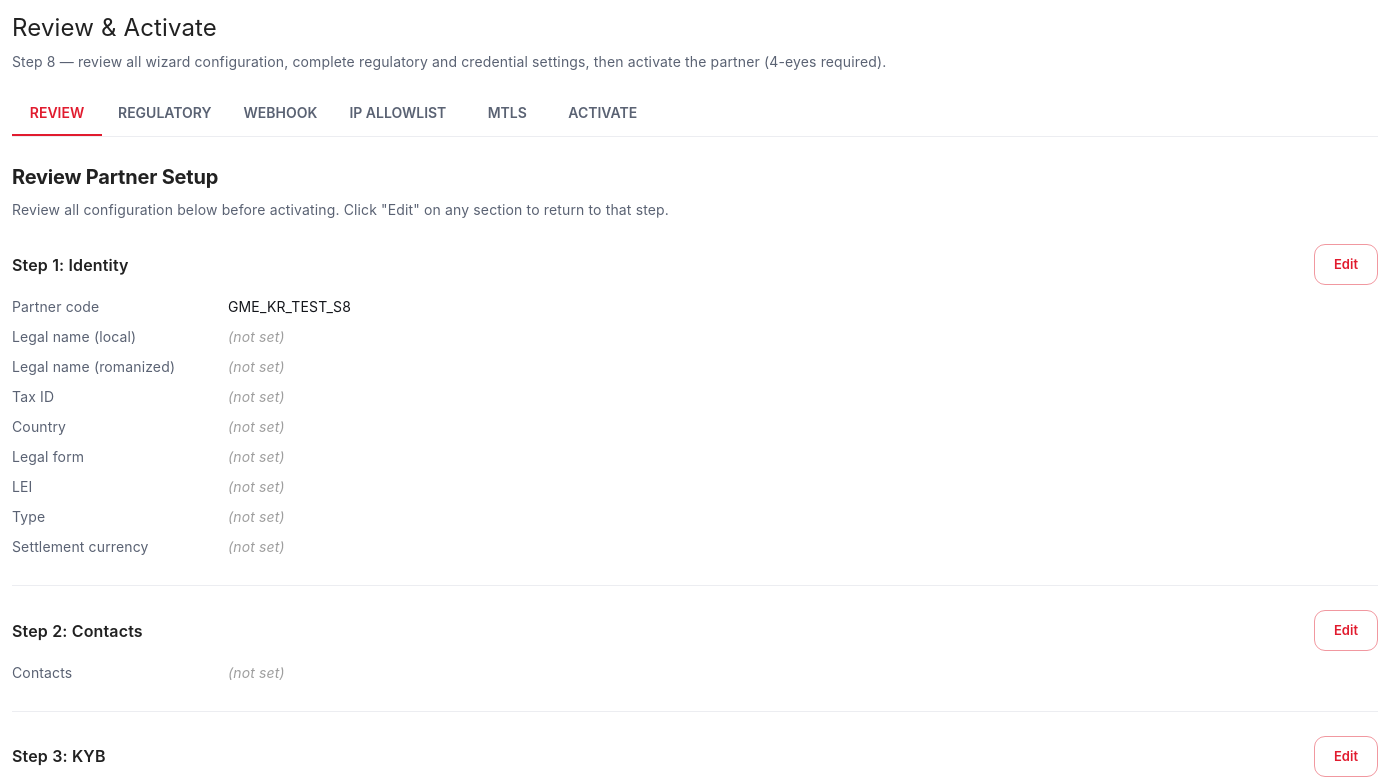
Test case: Step8Form › switches to IP allowlist tab
Click the tab with aria-label "tab-ip-allowlist": (398, 112) [333,88,462,136]
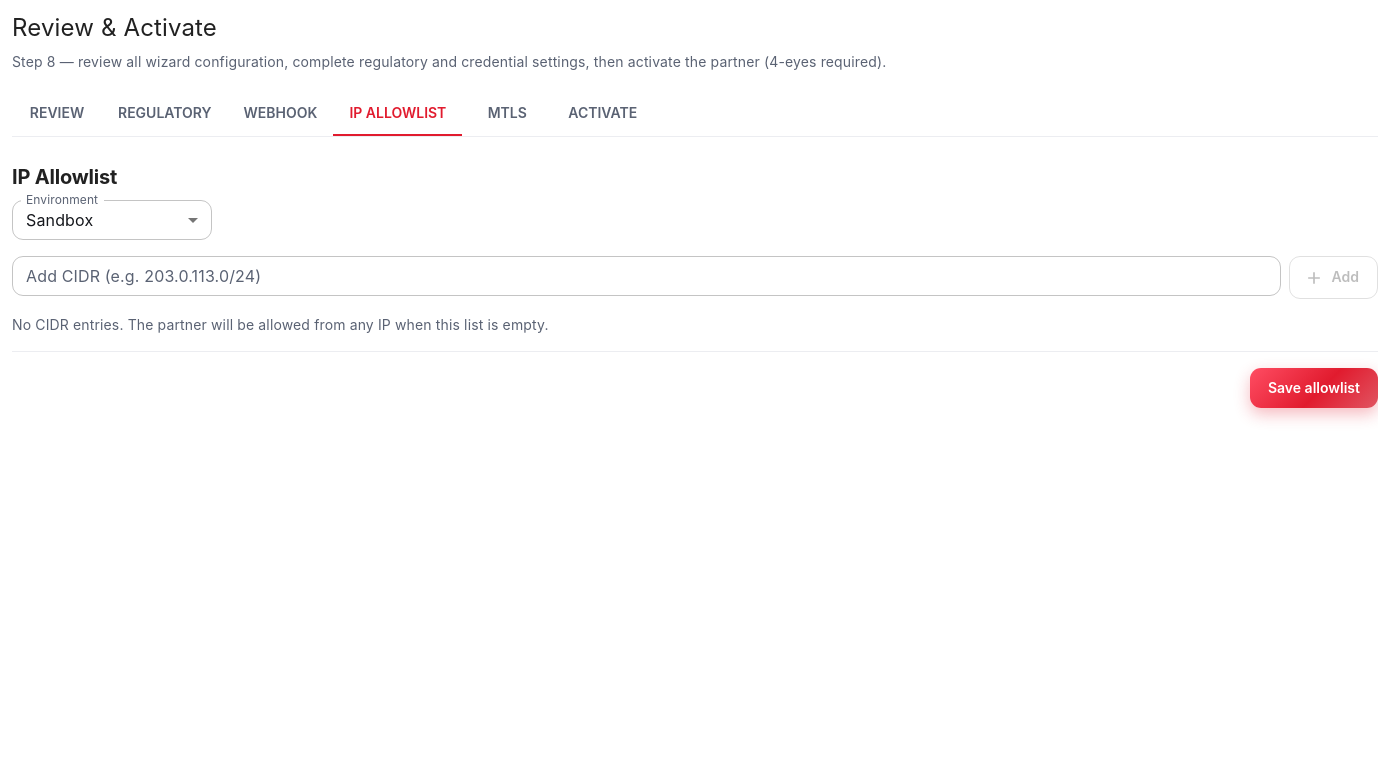
Now the element named "ip-allowlist-section" is shown, box [12,161,1378,408]
